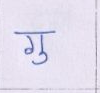u_matra: (33, 52, 49, 66)
